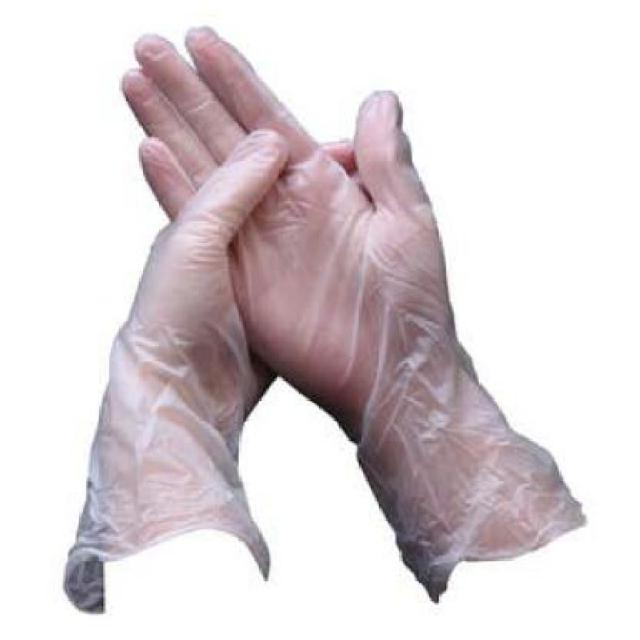gloved_hand: (38, 26, 594, 606)
